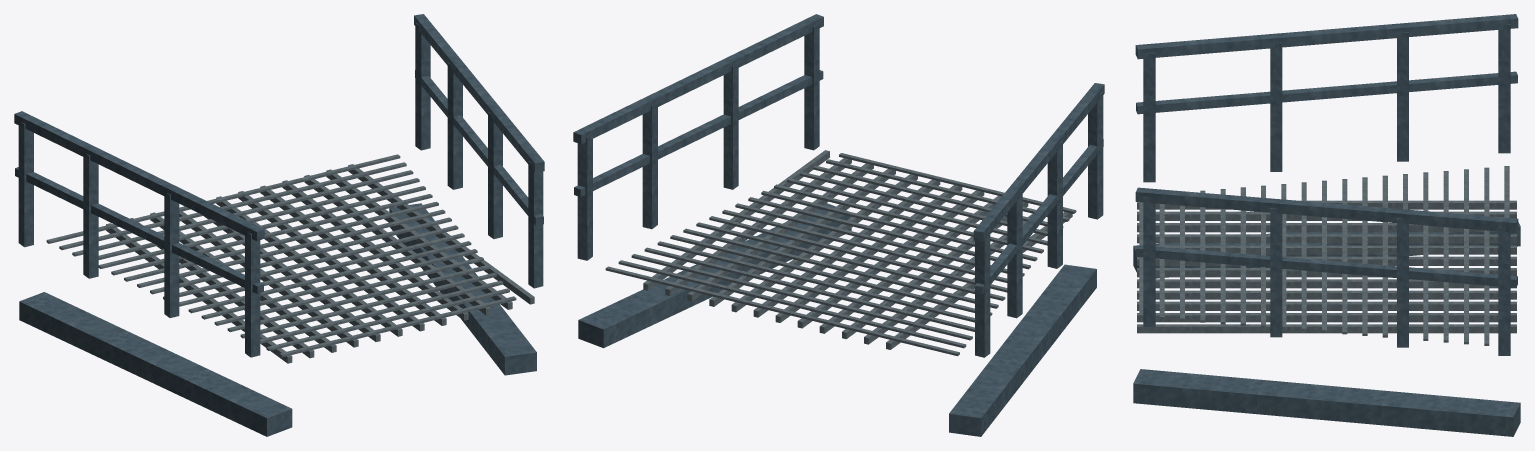
The model's file is PZ_Caldera_FlaredTransition_03m.glb.
3 views of the same model, side by side, from view 1: azimuth 30°, elevation 25°; view 2: azimuth 150°, elevation 25°; view 3: azimuth 270°, elevation 25° (orthographic). The views are drawn at different scales.
Parts seen in each view (by area): view 1: PZ_Caldera_FlaredTransition_03m_WIDENED_TRANSVERSE_GRATE_BAR, PZ_Caldera_FlaredTransition_03m_CENTRAL_LONGITUDINAL_GRATE_R, PZ_Caldera_FlaredTransition_03m_LEFT_FLARED_DECK_BEAM, PZ_Caldera_FlaredTransition_03m_LEFT_POSTS, PZ_Caldera_FlaredTransition_03m_RIGHT_POSTS, PZ_Caldera_FlaredTransition_03m_RIGHT_FLARED_DECK_BEAM, PZ_Caldera_FlaredTransition_03m_LEFT_ANGLED_TOP_HANDRAIL, PZ_Caldera_FlaredTransition_03m_LEFT_ANGLED_MIDRAIL, PZ_Caldera_FlaredTransition_03m_RIGHT_ANGLED_TOP_HANDRAIL, PZ_Caldera_FlaredTransition_03m_RIGHT_ANGLED_MIDRAIL; view 2: PZ_Caldera_FlaredTransition_03m_WIDENED_TRANSVERSE_GRATE_BAR, PZ_Caldera_FlaredTransition_03m_CENTRAL_LONGITUDINAL_GRATE_R, PZ_Caldera_FlaredTransition_03m_LEFT_FLARED_DECK_BEAM, PZ_Caldera_FlaredTransition_03m_RIGHT_POSTS, PZ_Caldera_FlaredTransition_03m_LEFT_POSTS, PZ_Caldera_FlaredTransition_03m_RIGHT_FLARED_DECK_BEAM, PZ_Caldera_FlaredTransition_03m_RIGHT_ANGLED_TOP_HANDRAIL, PZ_Caldera_FlaredTransition_03m_RIGHT_ANGLED_MIDRAIL, PZ_Caldera_FlaredTransition_03m_LEFT_ANGLED_TOP_HANDRAIL, PZ_Caldera_FlaredTransition_03m_LEFT_ANGLED_MIDRAIL; view 3: PZ_Caldera_FlaredTransition_03m_CENTRAL_LONGITUDINAL_GRATE_R, PZ_Caldera_FlaredTransition_03m_RIGHT_FLARED_DECK_BEAM, PZ_Caldera_FlaredTransition_03m_WIDENED_TRANSVERSE_GRATE_BAR, PZ_Caldera_FlaredTransition_03m_LEFT_POSTS, PZ_Caldera_FlaredTransition_03m_RIGHT_POSTS, PZ_Caldera_FlaredTransition_03m_RIGHT_ANGLED_TOP_HANDRAIL, PZ_Caldera_FlaredTransition_03m_LEFT_ANGLED_TOP_HANDRAIL, PZ_Caldera_FlaredTransition_03m_LEFT_ANGLED_MIDRAIL, PZ_Caldera_FlaredTransition_03m_RIGHT_ANGLED_MIDRAIL, PZ_Caldera_FlaredTransition_03m_LEFT_FLARED_DECK_BEAM.
Boxes of the visible parts, x1,y1,x2,y2 form: PZ_Caldera_FlaredTransition_03m_WIDENED_TRANSVERSE_GRATE_BAR: (46, 154, 516, 357); PZ_Caldera_FlaredTransition_03m_CENTRAL_LONGITUDINAL_GRATE_R: (106, 164, 534, 363); PZ_Caldera_FlaredTransition_03m_LEFT_FLARED_DECK_BEAM: (19, 292, 292, 436); PZ_Caldera_FlaredTransition_03m_LEFT_POSTS: (18, 122, 260, 357); PZ_Caldera_FlaredTransition_03m_RIGHT_POSTS: (415, 23, 543, 288); PZ_Caldera_FlaredTransition_03m_RIGHT_FLARED_DECK_BEAM: (389, 203, 536, 375); PZ_Caldera_FlaredTransition_03m_LEFT_ANGLED_TOP_HANDRAIL: (14, 111, 264, 241); PZ_Caldera_FlaredTransition_03m_LEFT_ANGLED_MIDRAIL: (15, 167, 263, 293); PZ_Caldera_FlaredTransition_03m_RIGHT_ANGLED_TOP_HANDRAIL: (414, 14, 544, 172); PZ_Caldera_FlaredTransition_03m_RIGHT_ANGLED_MIDRAIL: (415, 70, 543, 225); PZ_Caldera_FlaredTransition_03m_WIDENED_TRANSVERSE_GRATE_BAR: (605, 153, 1076, 356); PZ_Caldera_FlaredTransition_03m_CENTRAL_LONGITUDINAL_GRATE_R: (643, 150, 1072, 349); PZ_Caldera_FlaredTransition_03m_LEFT_FLARED_DECK_BEAM: (949, 264, 1096, 436); PZ_Caldera_FlaredTransition_03m_RIGHT_POSTS: (577, 25, 819, 260); PZ_Caldera_FlaredTransition_03m_LEFT_POSTS: (975, 92, 1103, 357); PZ_Caldera_FlaredTransition_03m_RIGHT_FLARED_DECK_BEAM: (578, 203, 851, 348); PZ_Caldera_FlaredTransition_03m_RIGHT_ANGLED_TOP_HANDRAIL: (573, 14, 823, 144); PZ_Caldera_FlaredTransition_03m_RIGHT_ANGLED_MIDRAIL: (574, 70, 823, 197); PZ_Caldera_FlaredTransition_03m_LEFT_ANGLED_TOP_HANDRAIL: (973, 83, 1104, 241); PZ_Caldera_FlaredTransition_03m_LEFT_ANGLED_MIDRAIL: (974, 139, 1103, 294); PZ_Caldera_FlaredTransition_03m_CENTRAL_LONGITUDINAL_GRATE_R: (1137, 200, 1516, 333); PZ_Caldera_FlaredTransition_03m_RIGHT_FLARED_DECK_BEAM: (1133, 369, 1520, 436); PZ_Caldera_FlaredTransition_03m_WIDENED_TRANSVERSE_GRATE_BAR: (1139, 166, 1509, 345); PZ_Caldera_FlaredTransition_03m_LEFT_POSTS: (1143, 24, 1510, 182); PZ_Caldera_FlaredTransition_03m_RIGHT_POSTS: (1143, 197, 1510, 355); PZ_Caldera_FlaredTransition_03m_RIGHT_ANGLED_TOP_HANDRAIL: (1135, 187, 1518, 232); PZ_Caldera_FlaredTransition_03m_LEFT_ANGLED_TOP_HANDRAIL: (1135, 14, 1518, 59); PZ_Caldera_FlaredTransition_03m_LEFT_ANGLED_MIDRAIL: (1136, 71, 1517, 114); PZ_Caldera_FlaredTransition_03m_RIGHT_ANGLED_MIDRAIL: (1136, 245, 1517, 287); PZ_Caldera_FlaredTransition_03m_LEFT_FLARED_DECK_BEAM: (1133, 222, 1520, 278).
Size of the model in its own units: 3.9 by 1.88 by 3.06.
2 materials, 2 textured.
